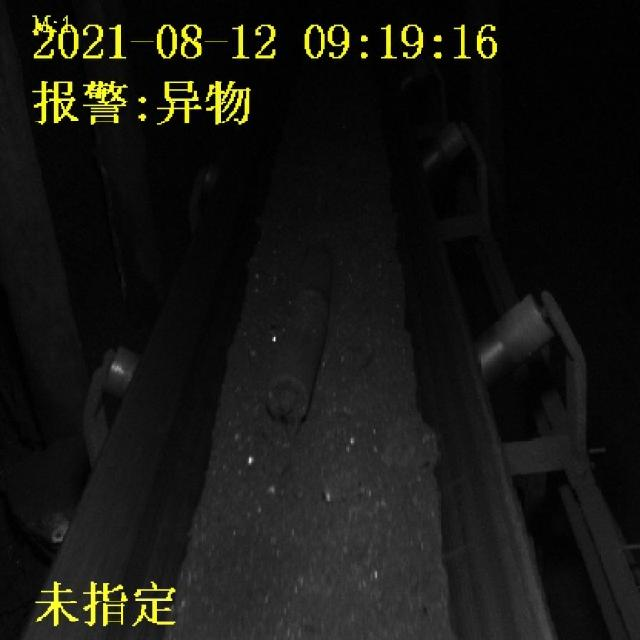bolt: (263, 286, 332, 425)
